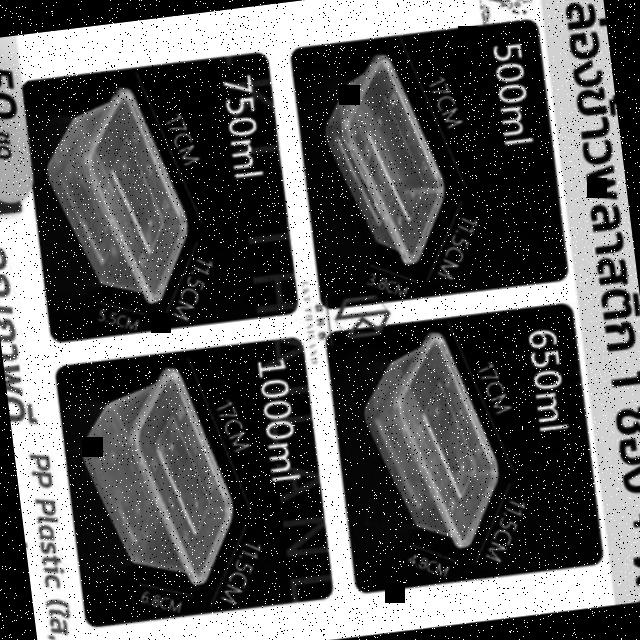plastic_box: (72, 362, 241, 602), (38, 87, 194, 316), (356, 329, 508, 562), (314, 49, 452, 273)
